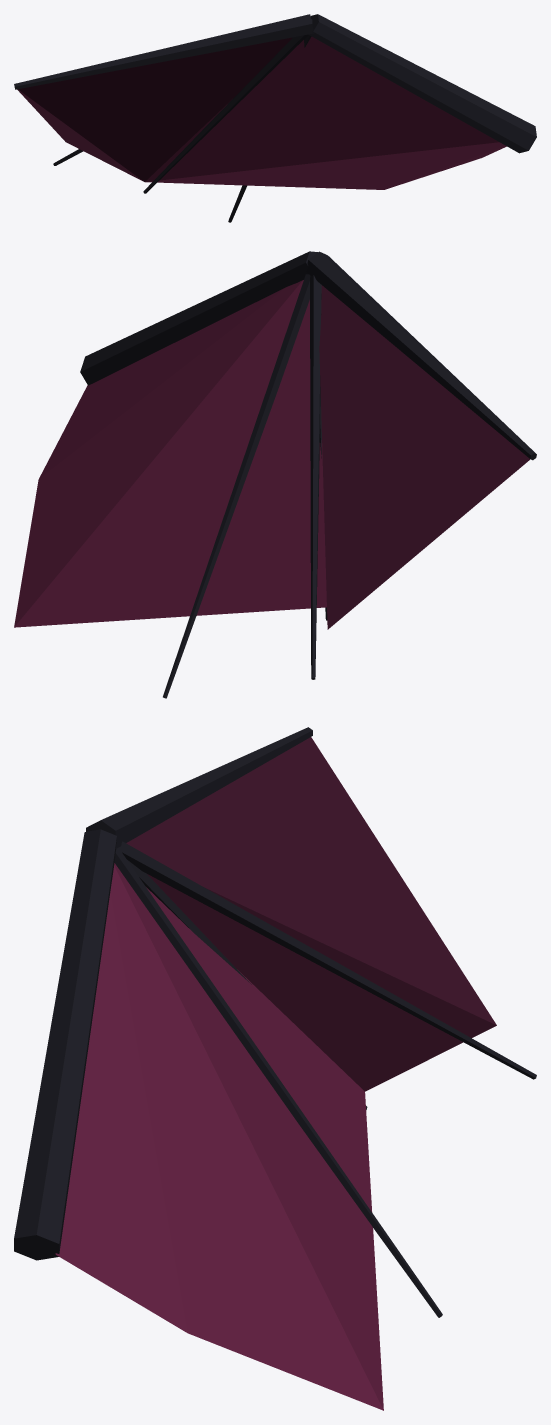
The model's file is dragon_1_wing_r.glb.
The picture shows the model from 3 angles, top to bottom: view 1: azimuth 30°, elevation 25°; view 2: azimuth 150°, elevation 25°; view 3: azimuth 270°, elevation 25°; orthographic projection. The views are drawn at different scales.
Parts seen in each view (by area): view 1: dragon_1_wing_r; view 2: dragon_1_wing_r; view 3: dragon_1_wing_r.
Part boxes in pixels (<box>): dragon_1_wing_r: <box>14,14,536,222</box>; dragon_1_wing_r: <box>14,251,536,698</box>; dragon_1_wing_r: <box>14,727,536,1410</box>.
Size of the model in its own units: 2.25 by 1.4 by 1.39.
